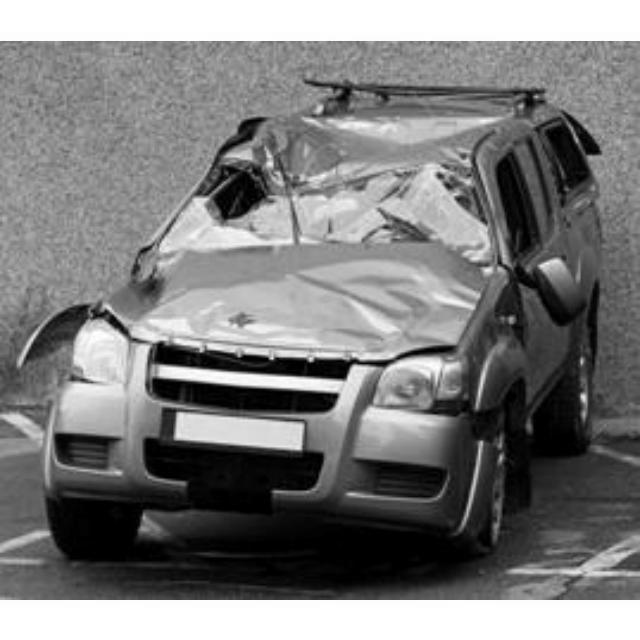Front-windscreen-damage: (158, 142, 505, 256)
Sidemirror-Damage: (519, 233, 597, 340)
bonnet-dent: (101, 236, 488, 359)
roof-dent: (195, 86, 537, 178)
